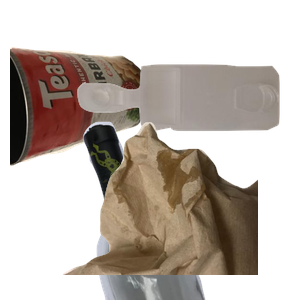glass: (81, 120, 300, 300)
metal: (10, 44, 151, 203)
plastic: (75, 62, 300, 186)
trash: (60, 120, 300, 300)
